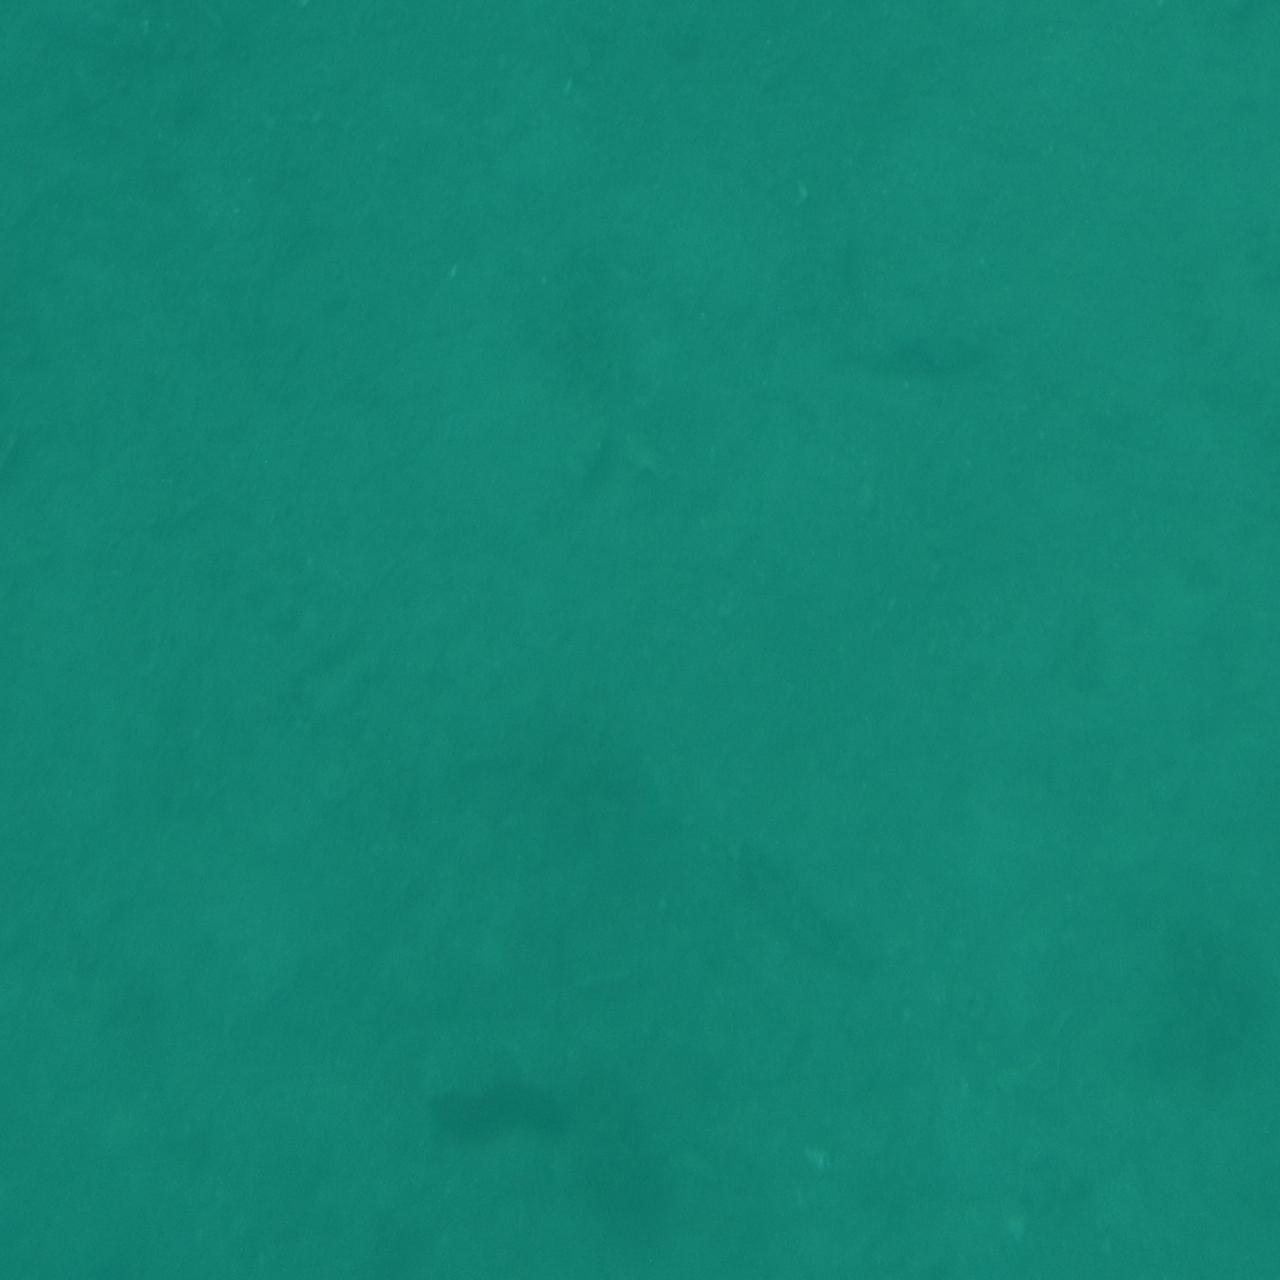Holothuria tubulosa: (688, 830, 914, 1006), (397, 1050, 563, 1176)
